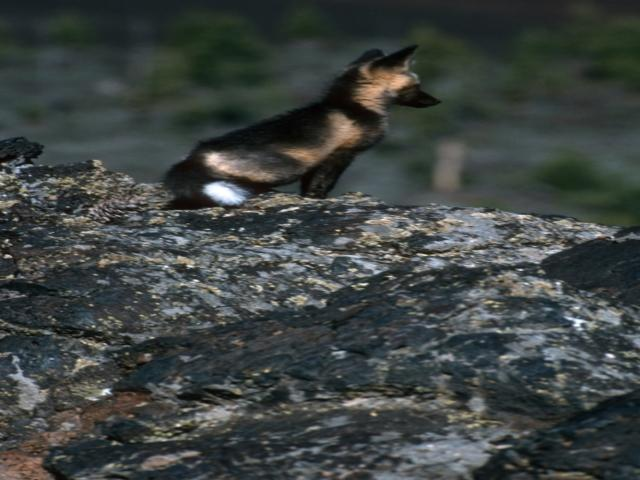Dog: (161, 45, 445, 212)
